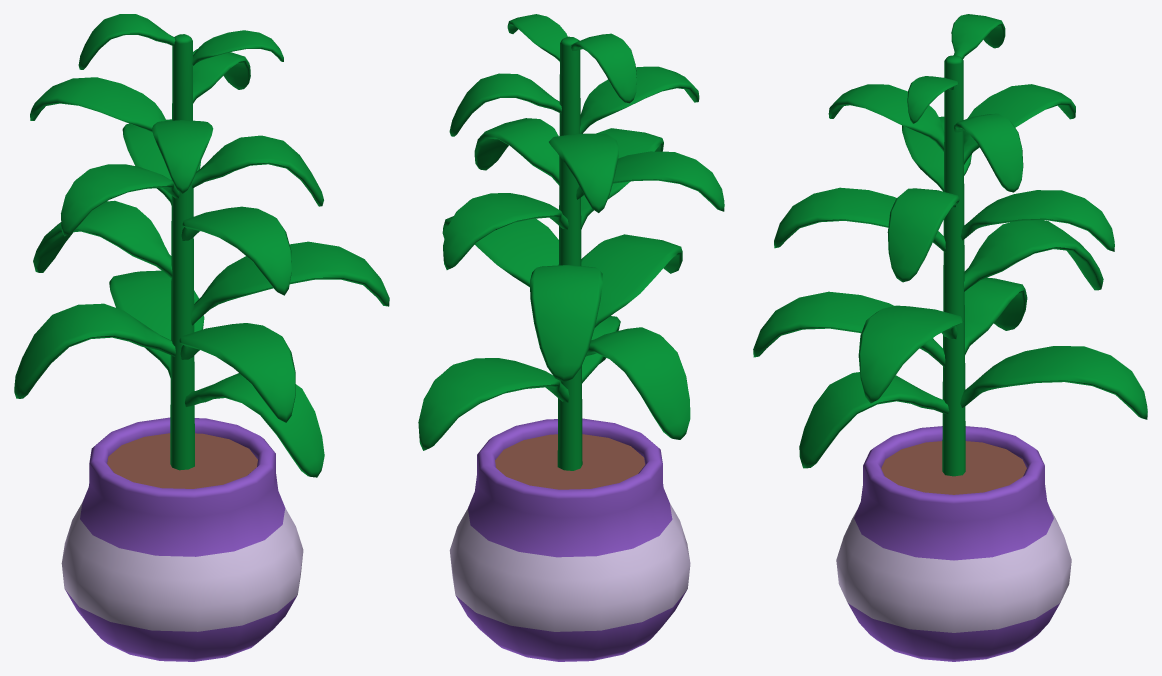
The model's file is City_5_Plant_3.glb.
3 renders of one model, left to right at view 1: azimuth 30°, elevation 25°; view 2: azimuth 150°, elevation 25°; view 3: azimuth 270°, elevation 25°, orthographic. The views are drawn at different scales.
Visible parts, largest first — view 1: City_5_Plant_3; view 2: City_5_Plant_3; view 3: City_5_Plant_3.
Part boxes in pixels (x1,y1,x2,y2): City_5_Plant_3: (14,14,389,661); City_5_Plant_3: (418,14,724,661); City_5_Plant_3: (753,14,1147,661).
Size of the model in its own units: 0.8545 by 1.62 by 0.9895.
1 material, 1 textured.
